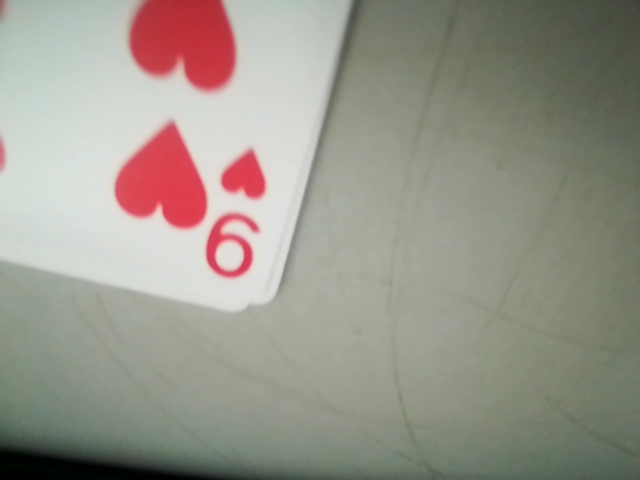hx 9: (207, 146, 268, 281)
